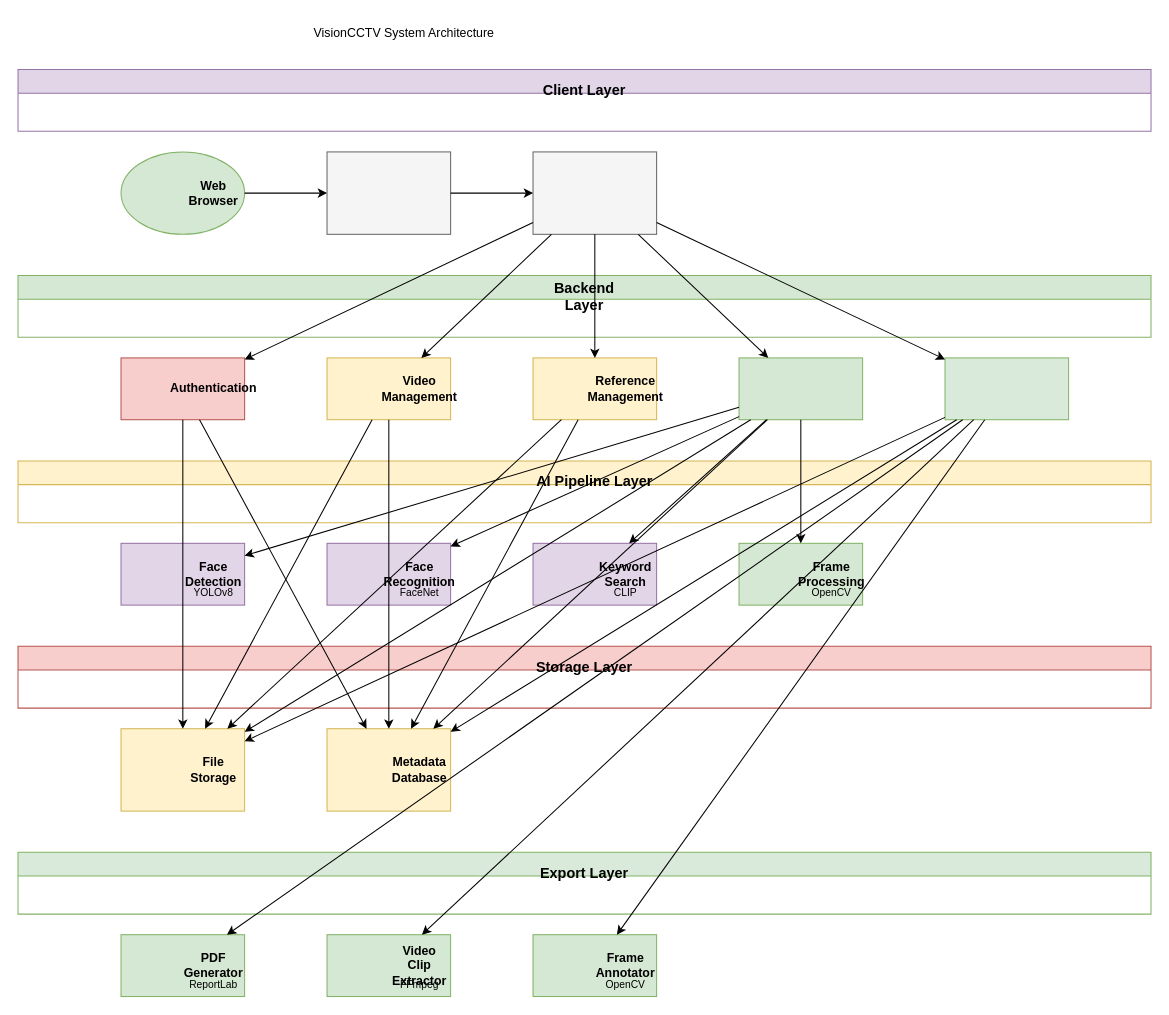
This 1169x1015 diagram has some shape labels left out. The centre of each missing label's shape, as x and y in pixels:
Export System: the point at 1006,388
FastAPI Backend: the point at 594,192
Next.js Frontend: the point at 388,192
Search Engine: the point at 800,388
